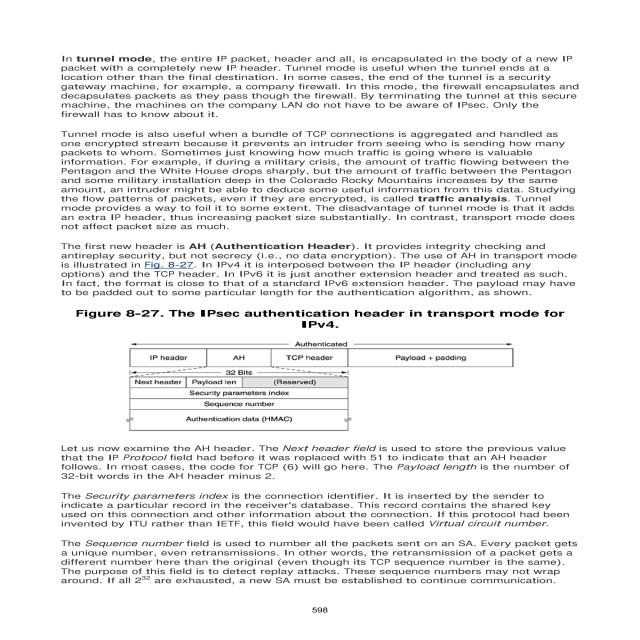diagram: (36, 305, 603, 434)
